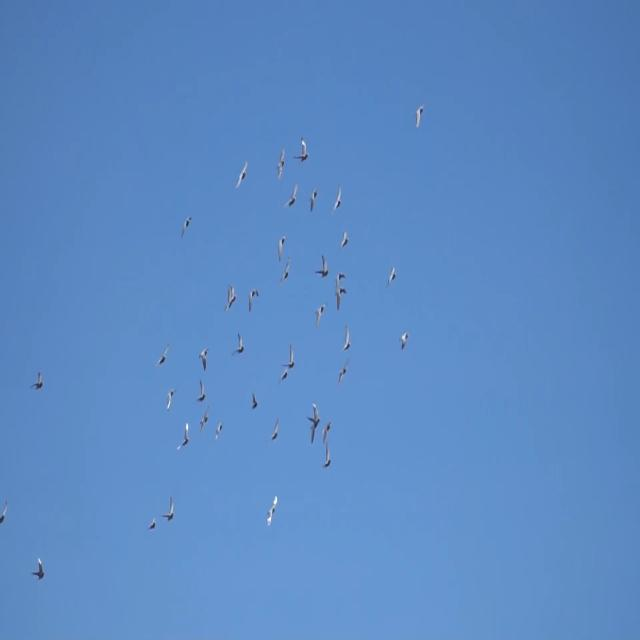bird: (293, 137, 311, 165), (172, 421, 190, 449), (265, 494, 279, 530), (223, 280, 237, 314), (235, 156, 248, 192), (328, 184, 343, 214), (306, 399, 321, 429), (337, 356, 351, 386), (196, 406, 211, 434), (154, 341, 170, 367), (283, 181, 298, 208), (314, 253, 329, 280), (30, 556, 45, 583), (164, 384, 178, 412), (230, 331, 244, 358), (179, 213, 193, 239), (197, 347, 211, 373), (340, 323, 352, 353), (281, 344, 296, 368), (247, 286, 259, 314), (162, 495, 174, 523), (276, 144, 285, 181), (29, 370, 44, 392), (314, 302, 326, 329), (334, 287, 346, 312), (320, 441, 330, 471), (276, 233, 286, 262), (194, 380, 206, 404), (280, 258, 290, 286), (414, 103, 424, 130), (308, 186, 318, 213), (398, 330, 410, 350), (270, 418, 280, 442), (322, 418, 331, 444), (388, 264, 397, 289), (332, 271, 346, 287), (0, 500, 8, 528), (214, 418, 223, 442), (309, 422, 318, 445), (279, 369, 290, 385), (146, 516, 158, 530), (341, 226, 349, 246), (251, 390, 257, 409)
